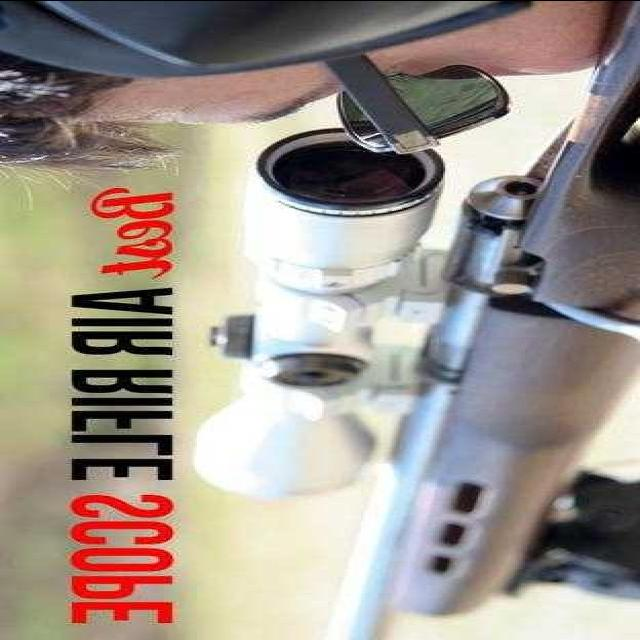heavyweapon: (181, 1, 640, 629)
